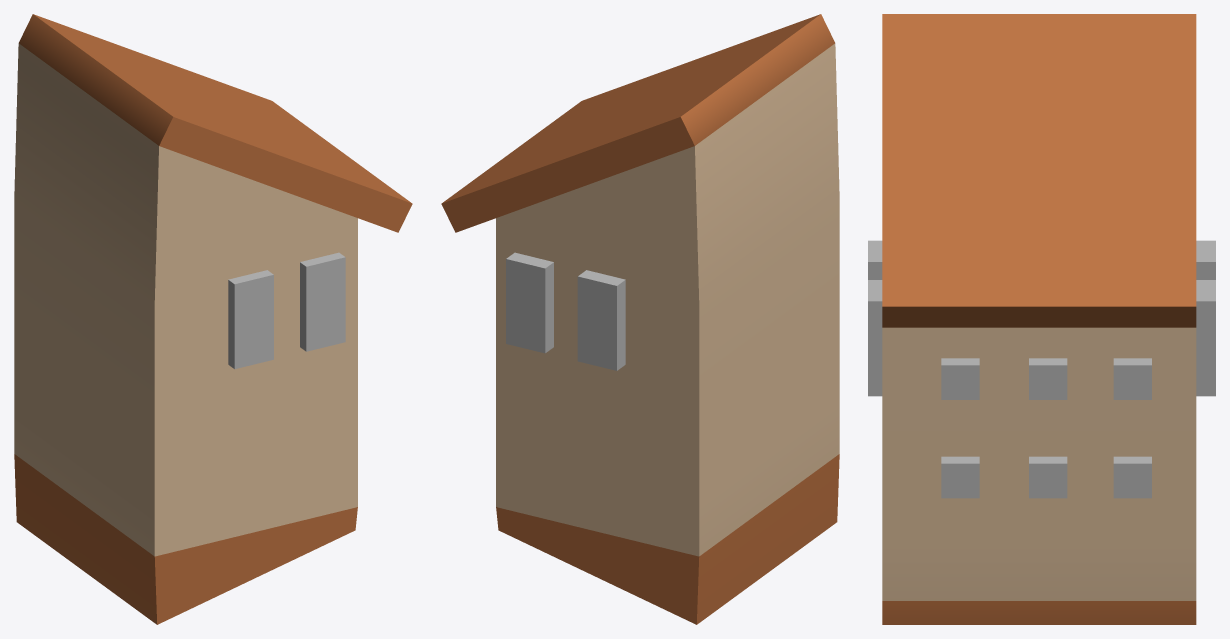
Rendered from HigherHouse.fbx.
3 renders of one model, left to right at view 1: azimuth 30°, elevation 25°; view 2: azimuth 150°, elevation 25°; view 3: azimuth 270°, elevation 25°, orthographic. The views are drawn at different scales.
Visible parts, largest first — view 1: pCube1, pCube11, pCube12; view 2: pCube1, pCube10, pCube9; view 3: pCube1, pCube9, pCube11, pCube39, pCube37, pCube38, pCube6, pCube7, pCube8, pCube10, pCube12.
Boxes of the visible parts, box(x1,y1,x2,y2) form: pCube1: box(14, 14, 412, 624); pCube11: box(300, 252, 345, 351); pCube12: box(228, 270, 273, 369); pCube1: box(441, 14, 839, 624); pCube10: box(577, 270, 625, 370); pCube9: box(506, 252, 553, 353); pCube1: box(882, 14, 1196, 624); pCube9: box(1196, 280, 1215, 396); pCube11: box(868, 280, 882, 396); pCube39: box(941, 456, 979, 498); pCube37: box(1113, 456, 1151, 498); pCube38: box(1029, 456, 1067, 498); pCube6: box(941, 358, 979, 399); pCube7: box(1029, 358, 1067, 399); pCube8: box(1113, 358, 1151, 399); pCube10: box(1196, 240, 1215, 279); pCube12: box(868, 240, 882, 279).
Size of the model in its own units: 5.3 by 9.9 by 5.54.
